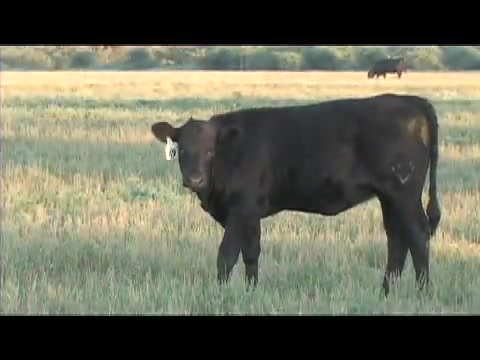cow: (152, 95, 442, 300), (368, 56, 407, 81)
